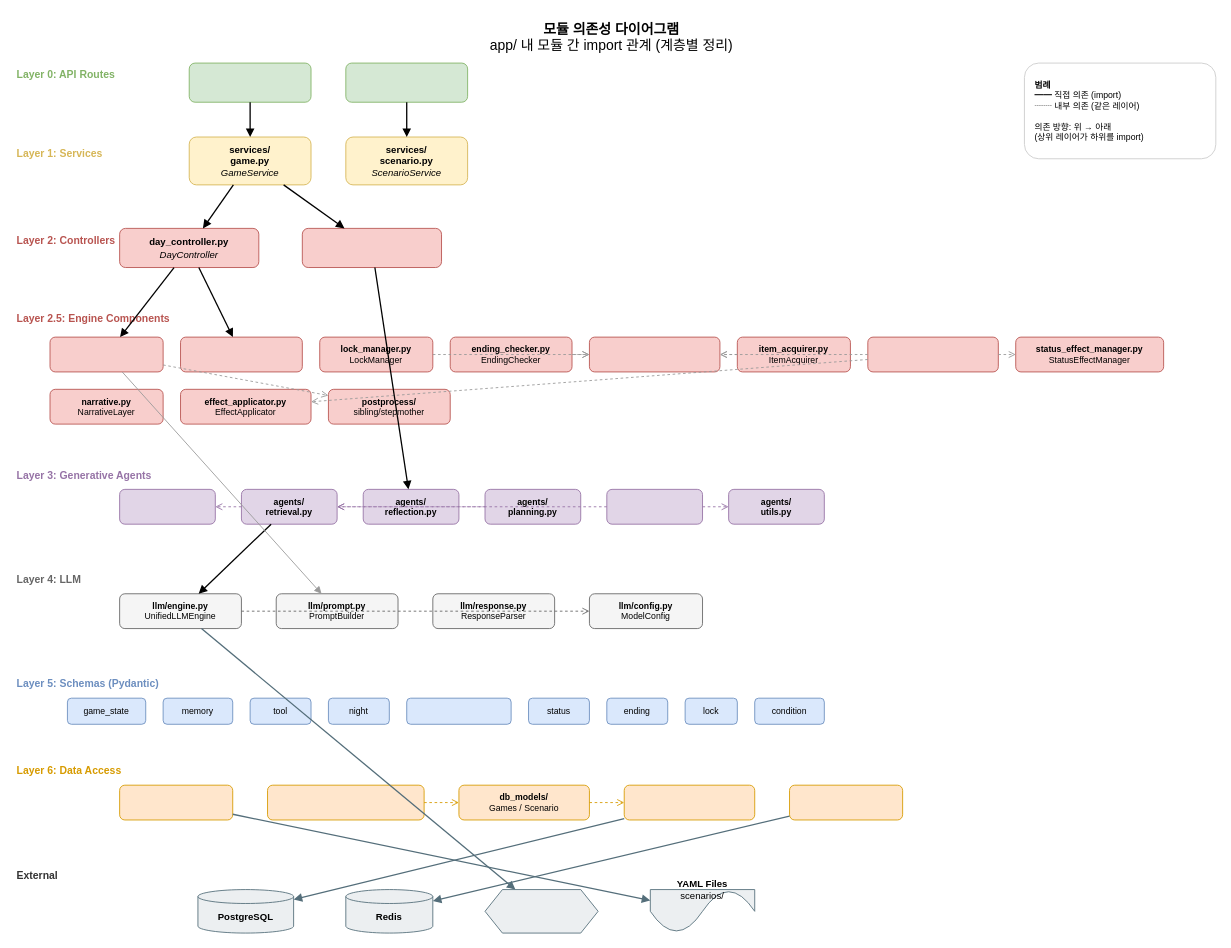
Image size: 1231x948. Some labels were removed from this diagram. Here are the shapes that lost their labels. From the top down, the centre of each, then its label:
At [249,82]: "api/routes/v1/ game.py".
At [406,82]: "api/routes/v1/ scenario.py".
At [371,248]: "night_controller.py NightController".
At [106,354]: "tools.py interact/action/use".
At [241,354]: "rule_engine.py memory_rules 적용".
At [654,354]: "condition_eval.py ConditionEvaluator".
At [932,354]: "item_use_resolver.py ItemUseResolver".
At [167,506]: "agents/ memory.py".
At [654,506]: "agents/ dialogue.py".
At [458,710]: "request_response".
At [176,802]: "loader.py ScenarioLoader".
At [345,802]: "crud/ game / scenario / chat_log".
At [689,802]: "database.py SQLAlchemy Session".
At [846,802]: "redis_client.py Redis Cache".
At [541,911]: "vLLM Server".
